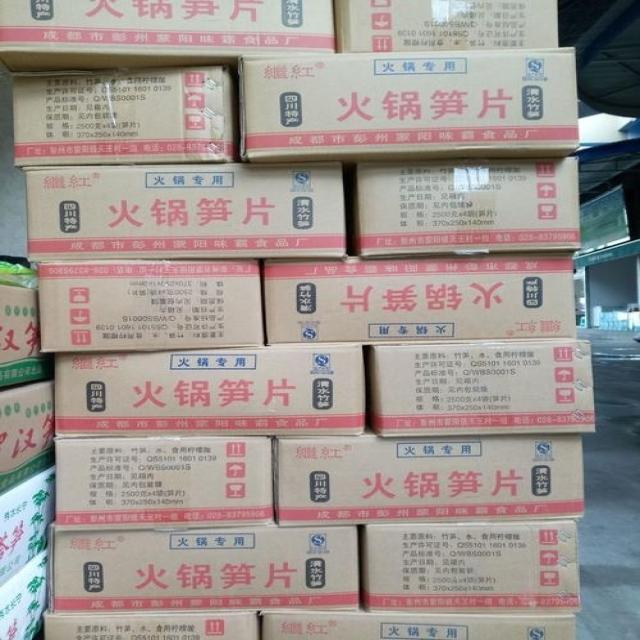box: (233, 46, 578, 162), (22, 161, 348, 263), (275, 423, 587, 523), (46, 522, 359, 615), (261, 252, 580, 343), (52, 347, 368, 435), (0, 0, 342, 74), (344, 158, 582, 258), (364, 341, 596, 439), (34, 261, 268, 356), (10, 70, 238, 167), (360, 518, 582, 614), (57, 434, 274, 531), (339, 0, 559, 52), (259, 607, 578, 639), (0, 255, 54, 389), (39, 609, 263, 639), (0, 467, 56, 586), (0, 378, 55, 494), (0, 551, 47, 638)
